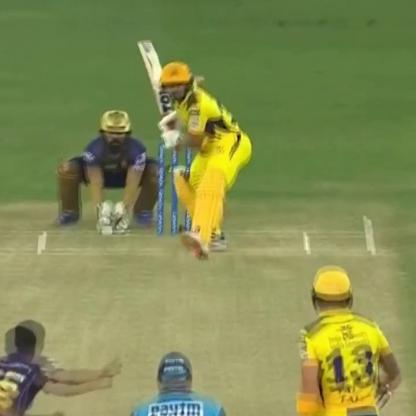ball: (163, 245, 189, 266)
